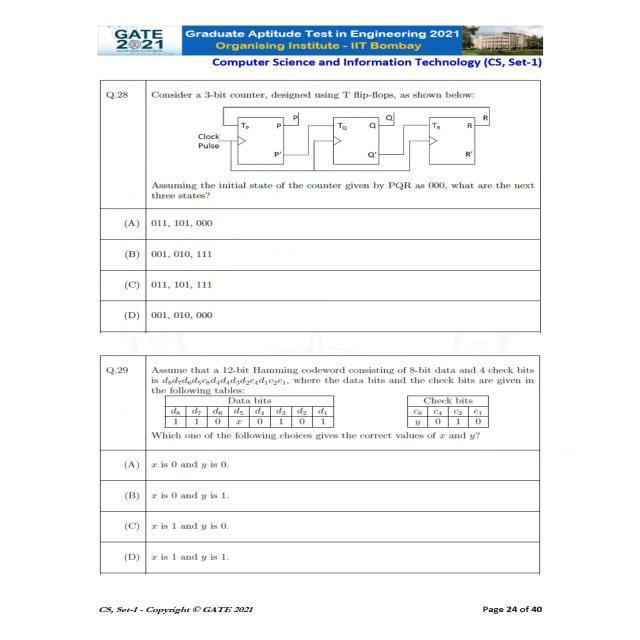Answer_Block: (101, 212, 538, 332), (104, 452, 538, 570)
Question_Answer_Block: (100, 79, 540, 332), (102, 356, 540, 572)
Question_Block: (104, 80, 538, 208), (104, 358, 538, 448)
Question_Paper_Area: (100, 79, 540, 572)
